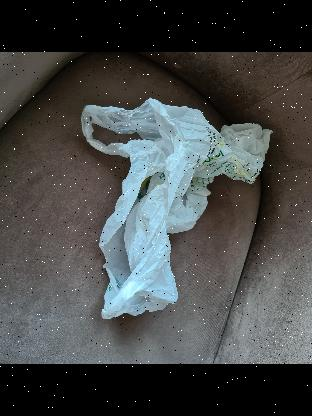Others: (76, 88, 281, 330)
